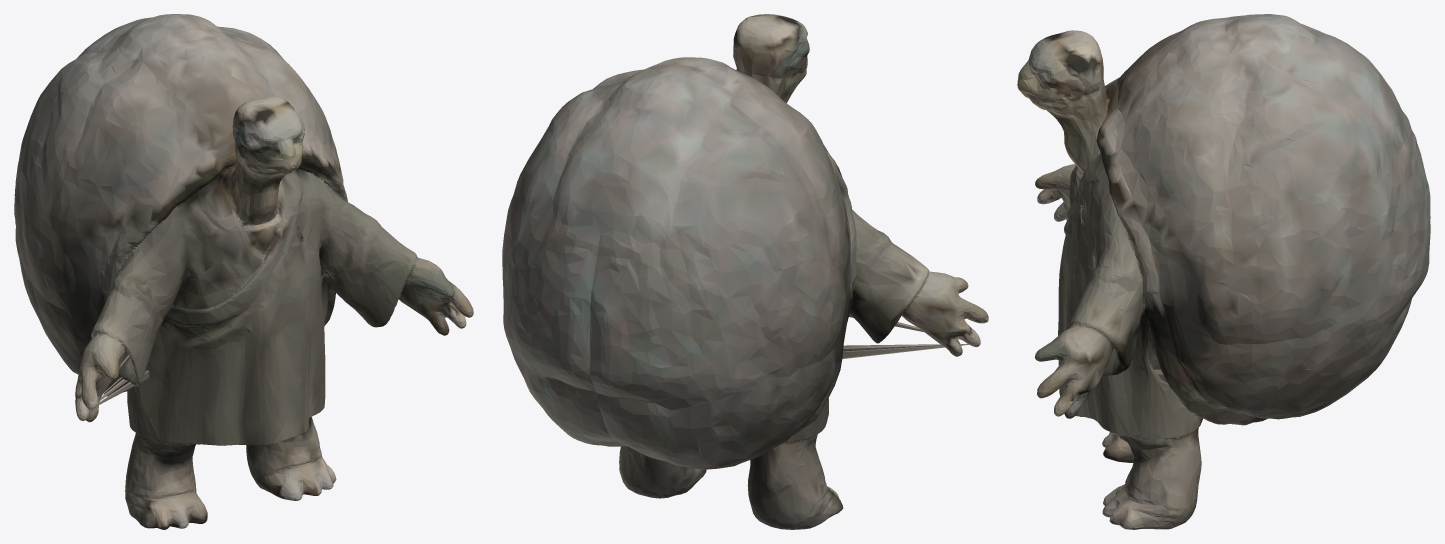
Rendered from vellum-color.glb.
3 renders of one model, left to right at view 1: azimuth 30°, elevation 25°; view 2: azimuth 150°, elevation 25°; view 3: azimuth 270°, elevation 25°, orthographic. The views are drawn at different scales.
Visible parts, largest first — view 1: world; view 2: world; view 3: world.
Part boxes in pixels (x1=…): world: x1=14, y1=14, x2=473, y2=529; world: x1=502, y1=14, x2=988, y2=529; world: x1=1017, y1=14, x2=1430, y2=529.
Size of the model in its own units: 1.79 by 1.96 by 1.57.
